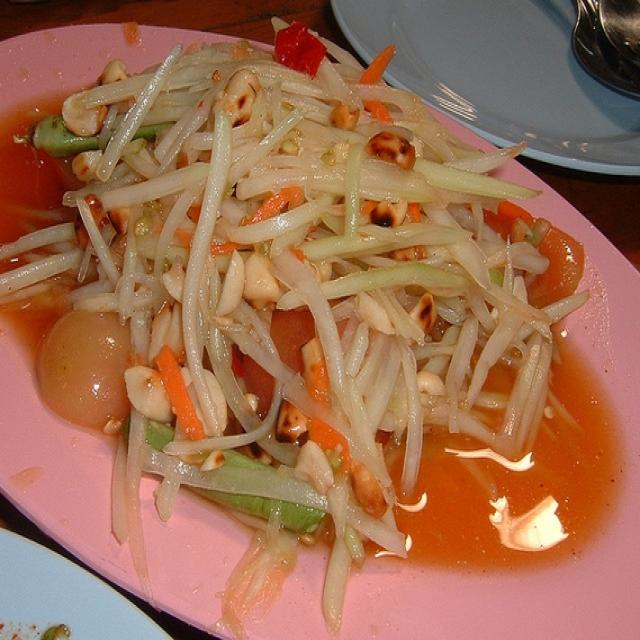蔬菜料理: (18, 27, 630, 610)
